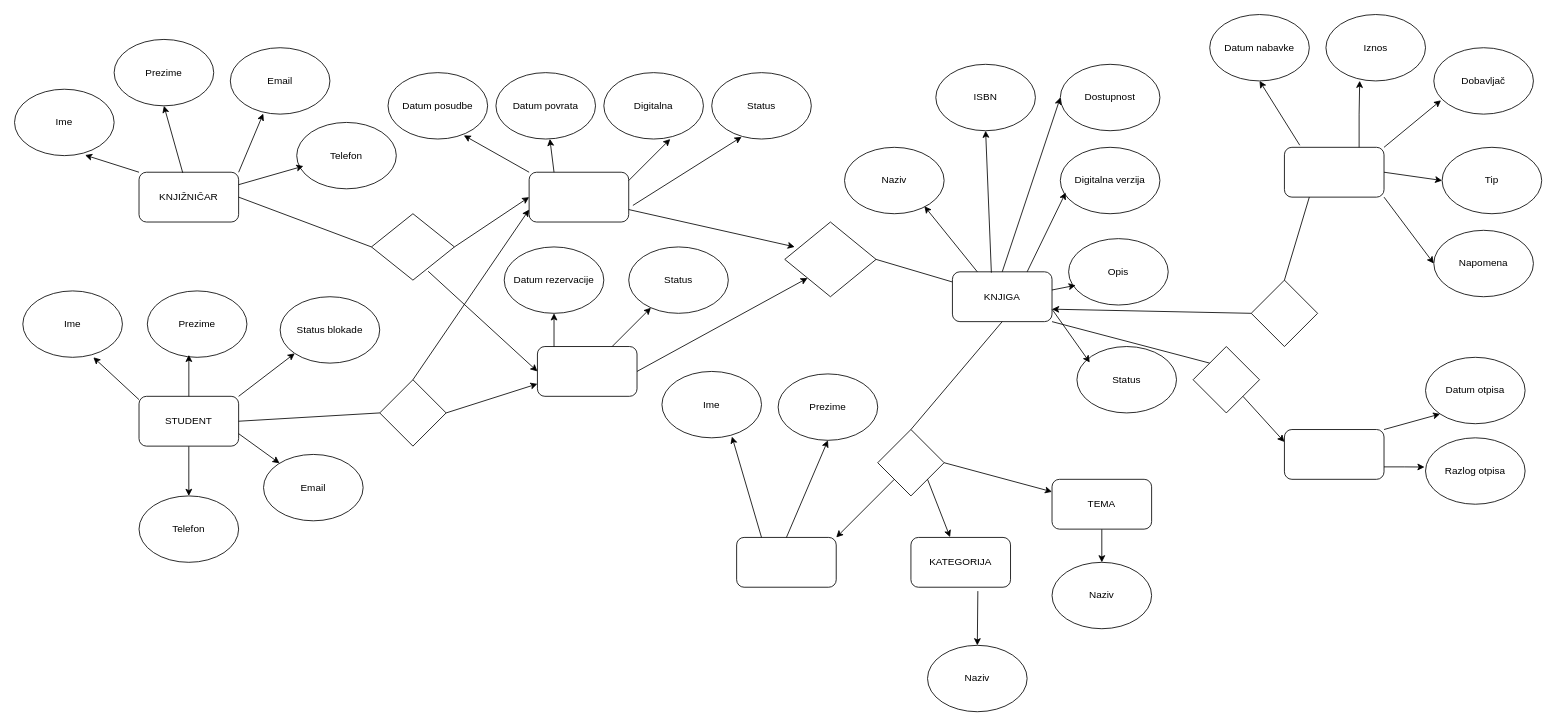
This 1556x726 diagram has some shape labels left out. The shapes that lost their labels are listed below. From the top down, each one's centre as x and y in pixels, then its label:
At (1334,171): "NABAVKA".
At (578,196): "POSUDBA".
At (412,246): "evidentira".
At (830,259): "uključuje".
At (1284,313): "sadrži".
At (587,371): "REZERVACIJA".
At (1226,379): "može biti".
At (412,412): "ostvaruje".
At (910,462): "ima".
At (1334,454): "OTPIS".
At (786,562): "AUTOR".
